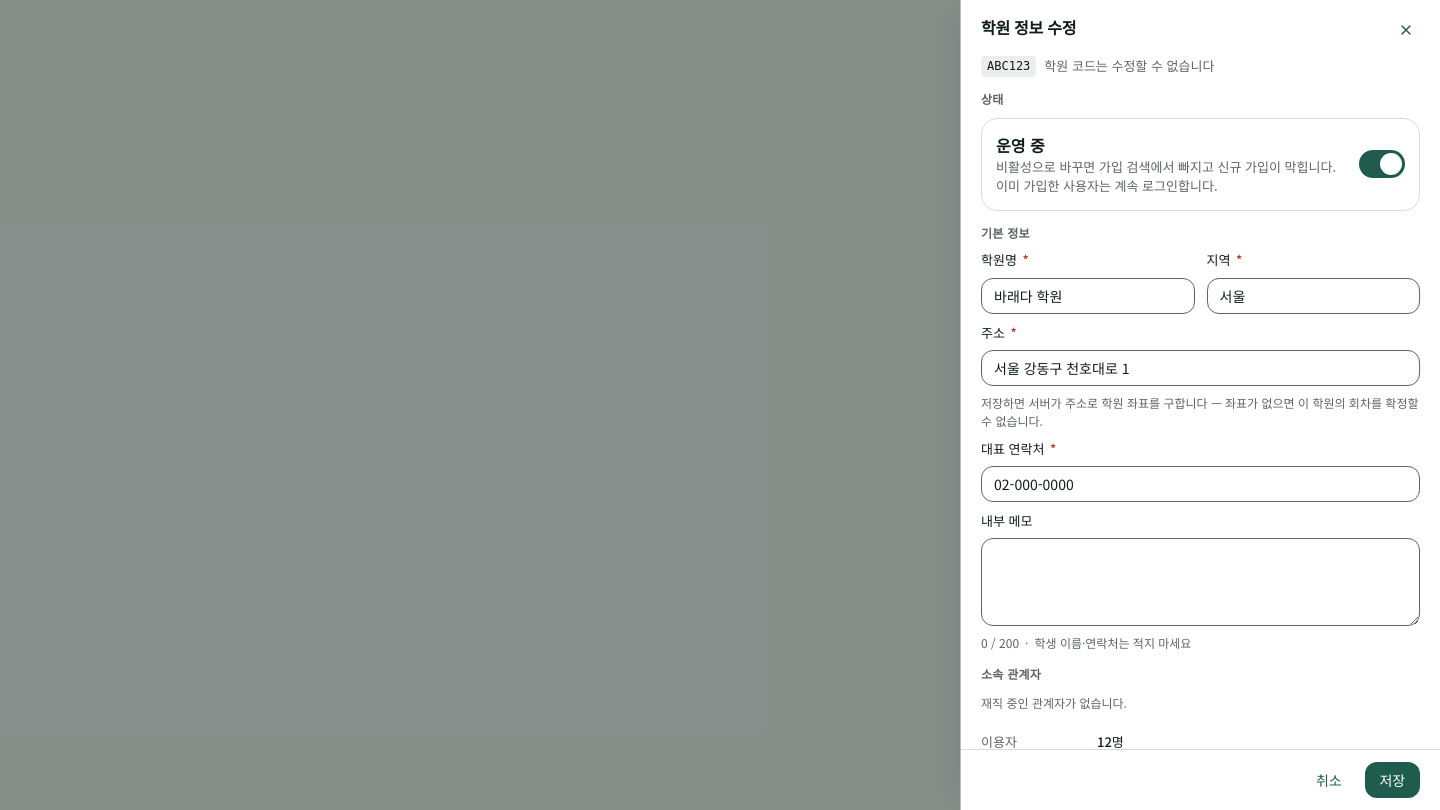
Test case: AcademyFormDialog — 비활성화 전 확인 › 확인 창에서 취소하면 요청이 나가지 않고 스위치는 운영 중 그대로다
Check: the field showing "바래다 학원" is shown, box [981,278,1194,314]
What coordinates should you click on to do the following:
click the checkbox labelled "운영 중"
I would click on:
 (1200, 164)
Its box is [996,133,1405,196].
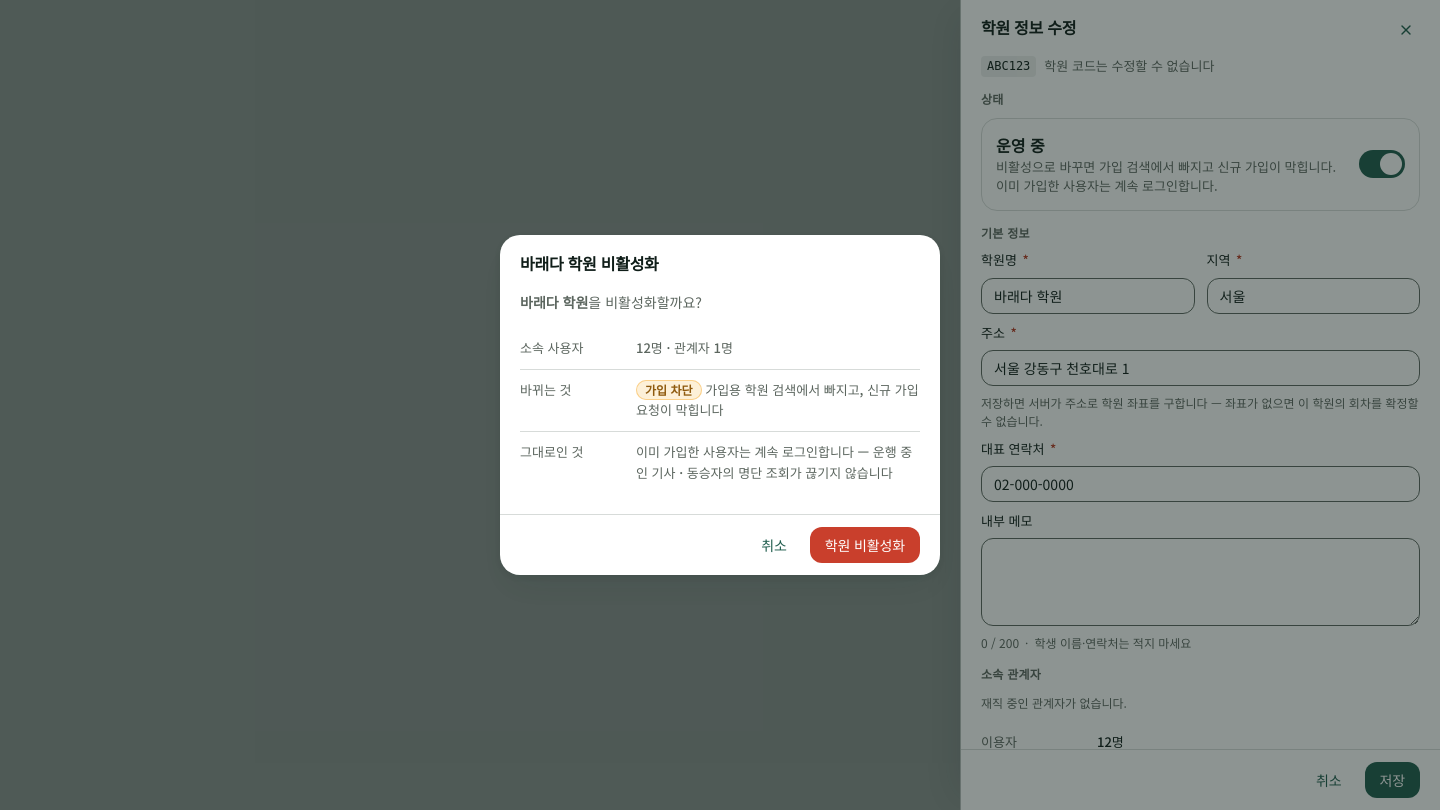
What coordinates should you click on to do the following:
click the button "취소"
I would click on:
 (774, 545)
Its box is [746,527,802,563].
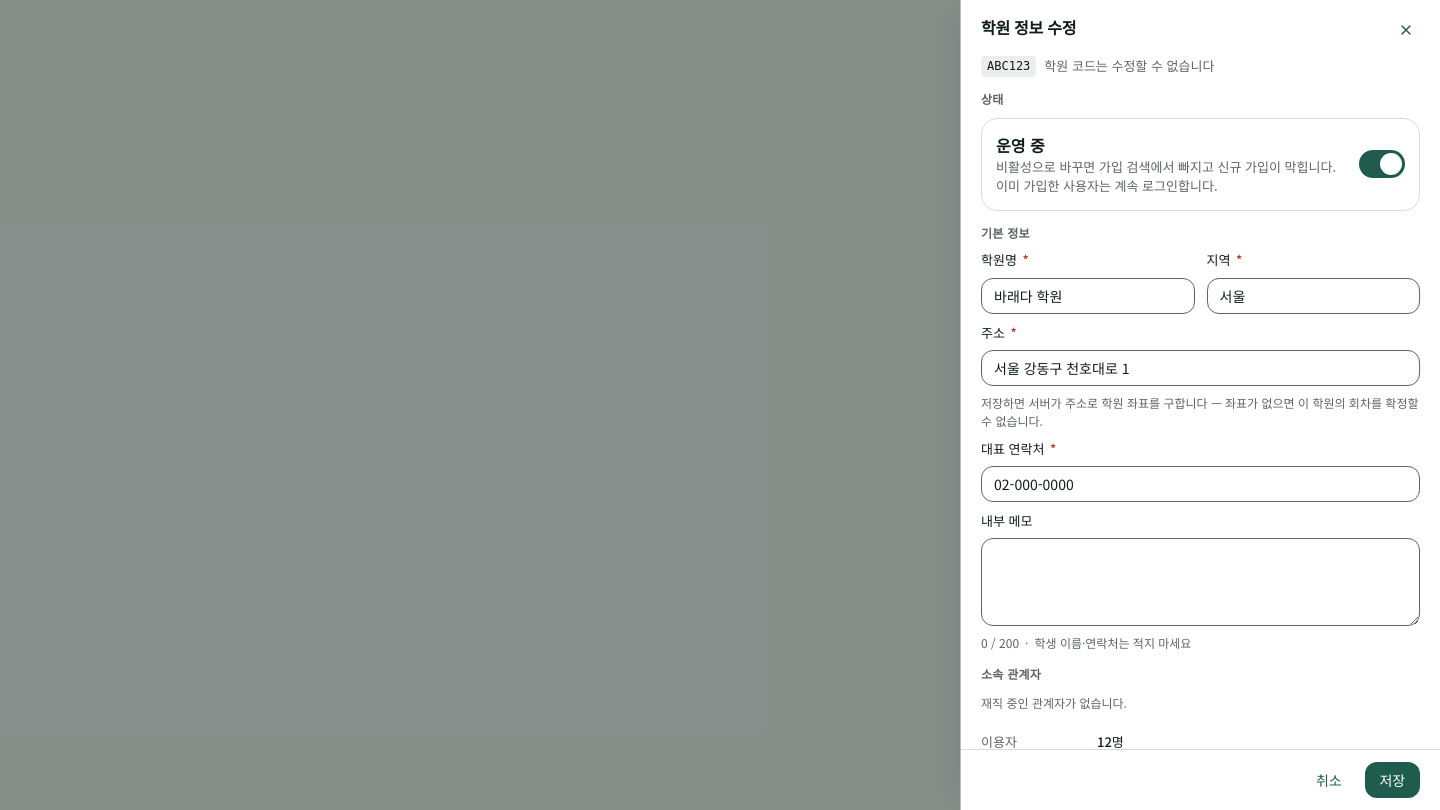
Check: the checkbox labelled "운영 중" is checked, box [996,133,1405,196]
Check: the text "바래다 학원 비활성화" is gone
